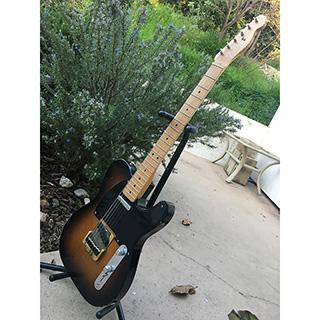Fender Telecaster: (57, 12, 269, 309)
SS: (96, 194, 135, 249)
